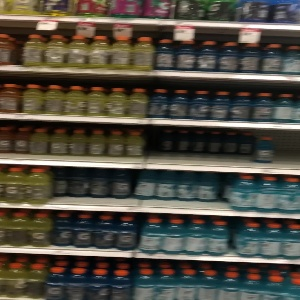void: (144, 129, 299, 163)
